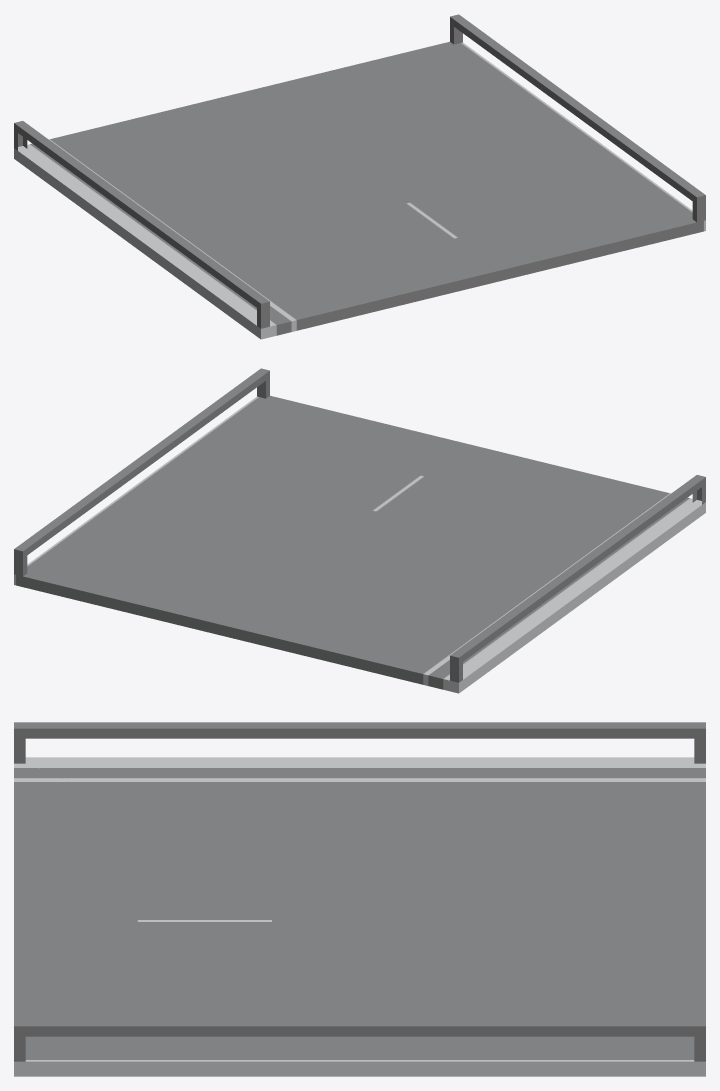
Rendered from Road_04.fbx.
3 renders of one model, top to bottom at view 1: azimuth 30°, elevation 25°; view 2: azimuth 150°, elevation 25°; view 3: azimuth 270°, elevation 25°, orthographic. The views are drawn at different scales.
Parts seen in each view (by area): view 1: Road_04; view 2: Road_04; view 3: Road_04.
Part boxes in pixels (left/top/right/bottom): Road_04: left=14, top=14, right=705, bottom=339; Road_04: left=14, top=368, right=705, bottom=693; Road_04: left=14, top=722, right=705, bottom=1076.
Bounding box in the file's own units: 2600 × 200 × 2500.
